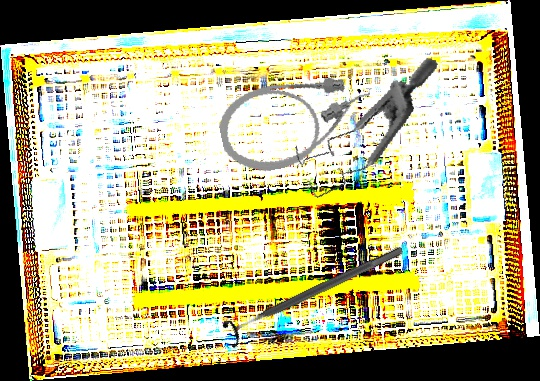Cannula: (213, 65, 381, 180)
Fixation Ring: (220, 235, 409, 350)
Speculum: (284, 31, 439, 219)
